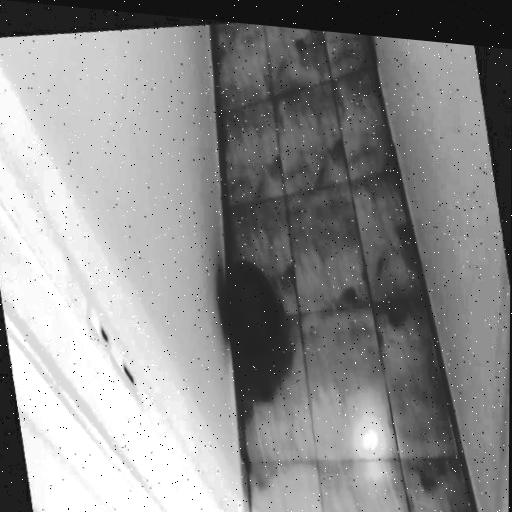balloon: (207, 241, 301, 378)
